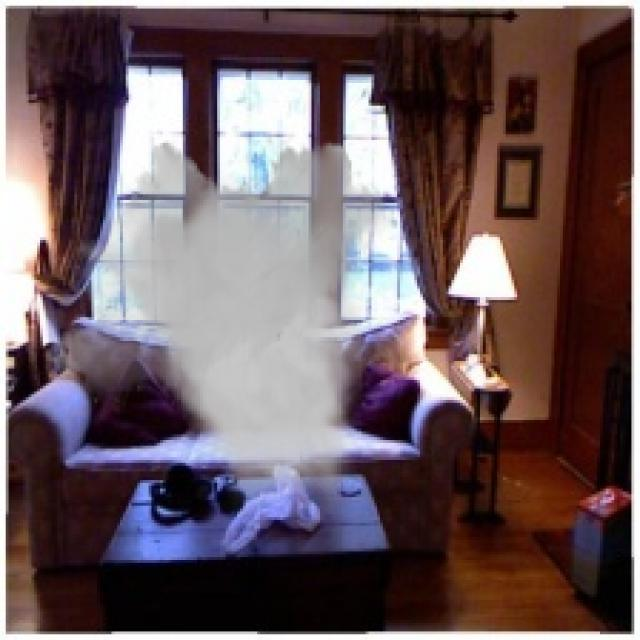Smoke: (42, 132, 398, 514)
